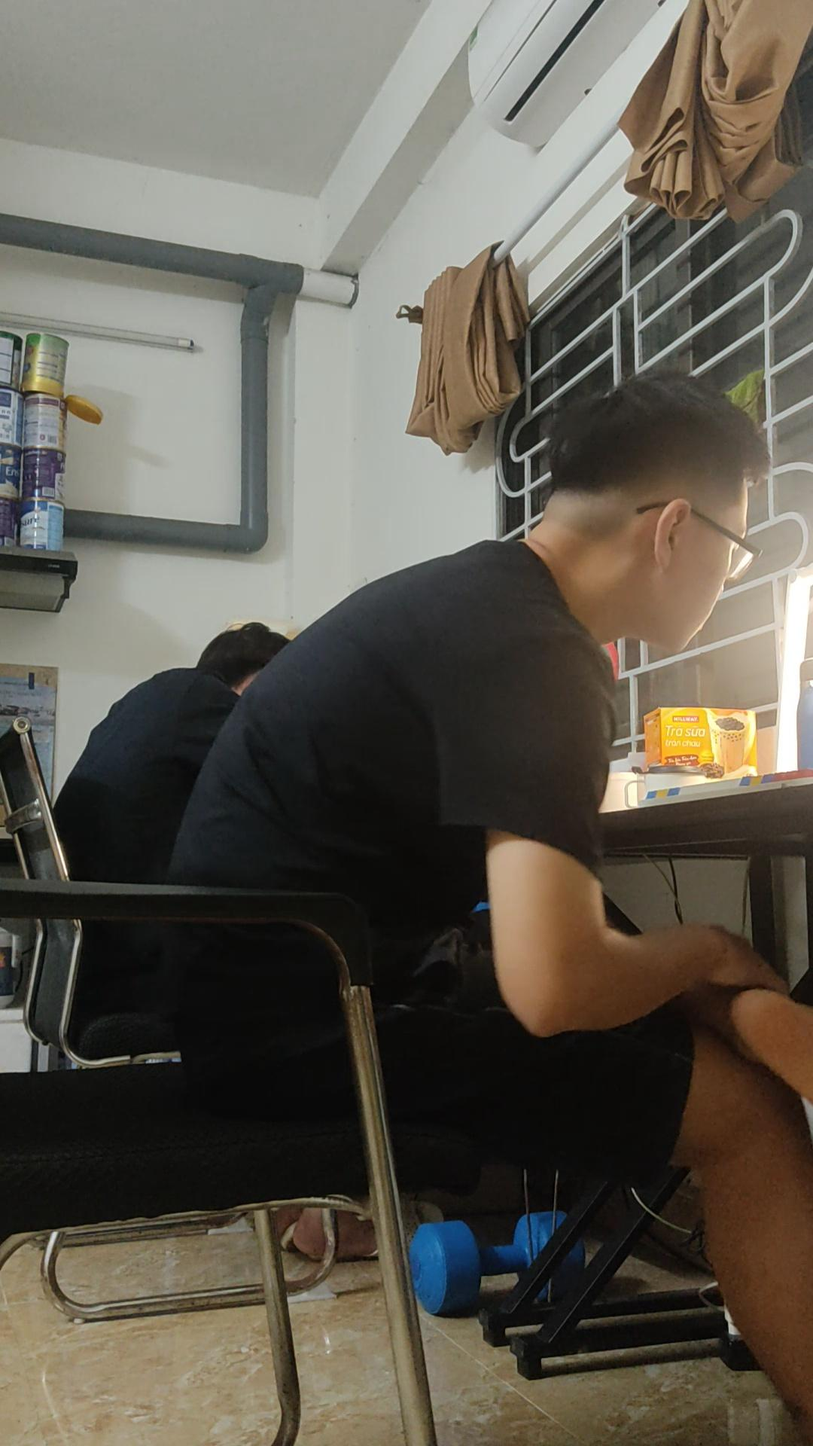BadPosture: (126, 391, 787, 1402)
